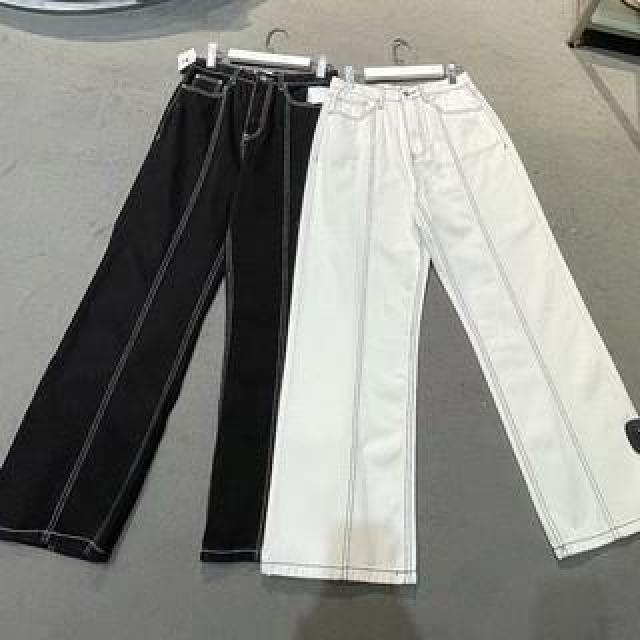pants: (270, 73, 640, 587), (3, 60, 319, 564)
